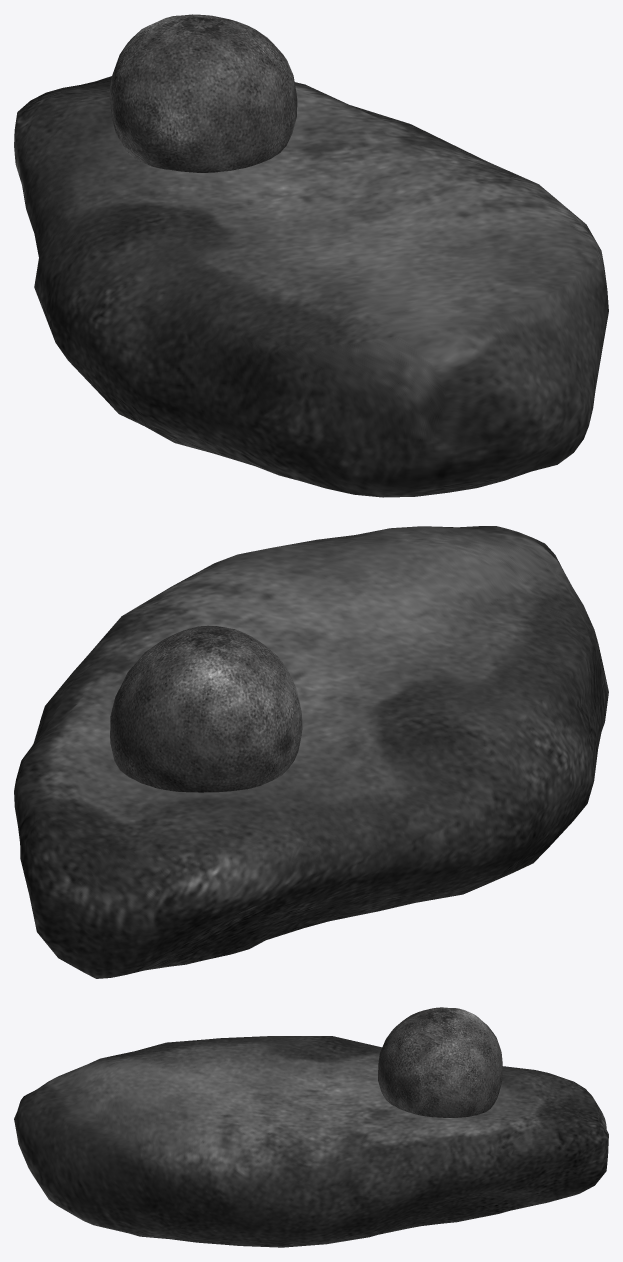
File: B4_Mortero.FBX
The picture shows the model from 3 angles, top to bottom: view 1: azimuth 30°, elevation 25°; view 2: azimuth 150°, elevation 25°; view 3: azimuth 270°, elevation 25°; orthographic projection. The views are drawn at different scales.
Visible parts, largest first — view 1: piedra_moler_low_unwrap; view 2: piedra_moler_low_unwrap; view 3: piedra_moler_low_unwrap.
Boxes of the visible parts, <box> form: piedra_moler_low_unwrap: <box>14,14,608,497</box>; piedra_moler_low_unwrap: <box>14,526,608,978</box>; piedra_moler_low_unwrap: <box>14,1007,608,1247</box>.
Bounding box in the file's own units: 14.27 × 8.74 × 23.58.
Materials: 2 (2 with a texture image).
